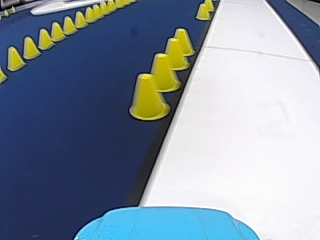cone: (128, 73, 167, 120), (148, 53, 179, 92), (163, 37, 187, 69), (172, 27, 194, 56), (6, 46, 25, 70), (22, 36, 40, 59), (37, 28, 54, 49), (50, 21, 65, 41), (195, 1, 211, 19), (62, 16, 77, 34), (74, 10, 87, 27), (85, 7, 94, 21), (201, 0, 212, 11)
